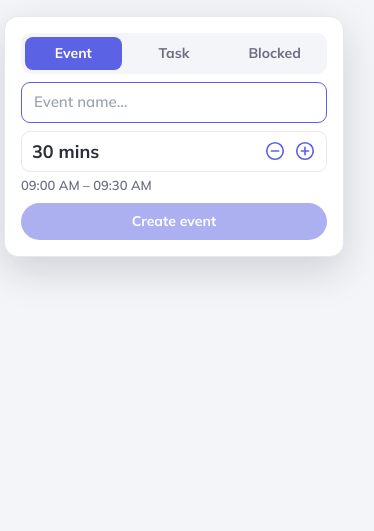
Test: CreatePopover › task mode (new task) shows due/category/after fields; event mode hides them
// switch to task mode
Click the button with test id "mode-task". click: (174, 54)
box: [126,37,222,70]
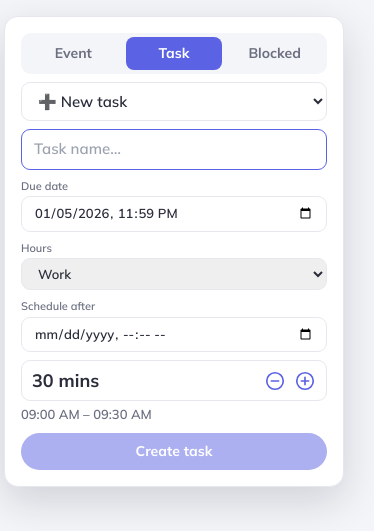
Expected: the field with test id "create-due" holds "2026-01-05T23:59", [21,196,327,232]
Expected: the field with test id "create-after" is empty, [21,316,327,352]
Expected: the dropdown with test id "create-category" is shown, [21,258,327,290]
